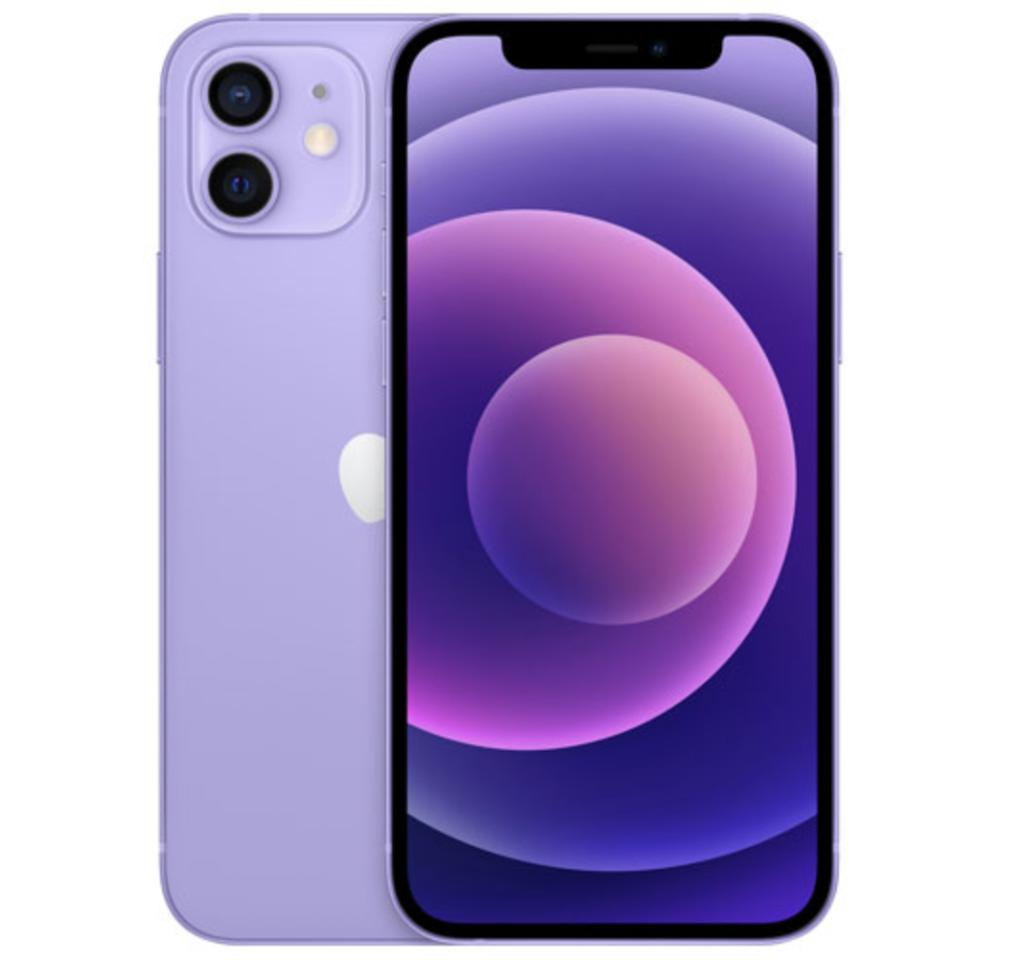-iphone12: (96, 4, 881, 951)
